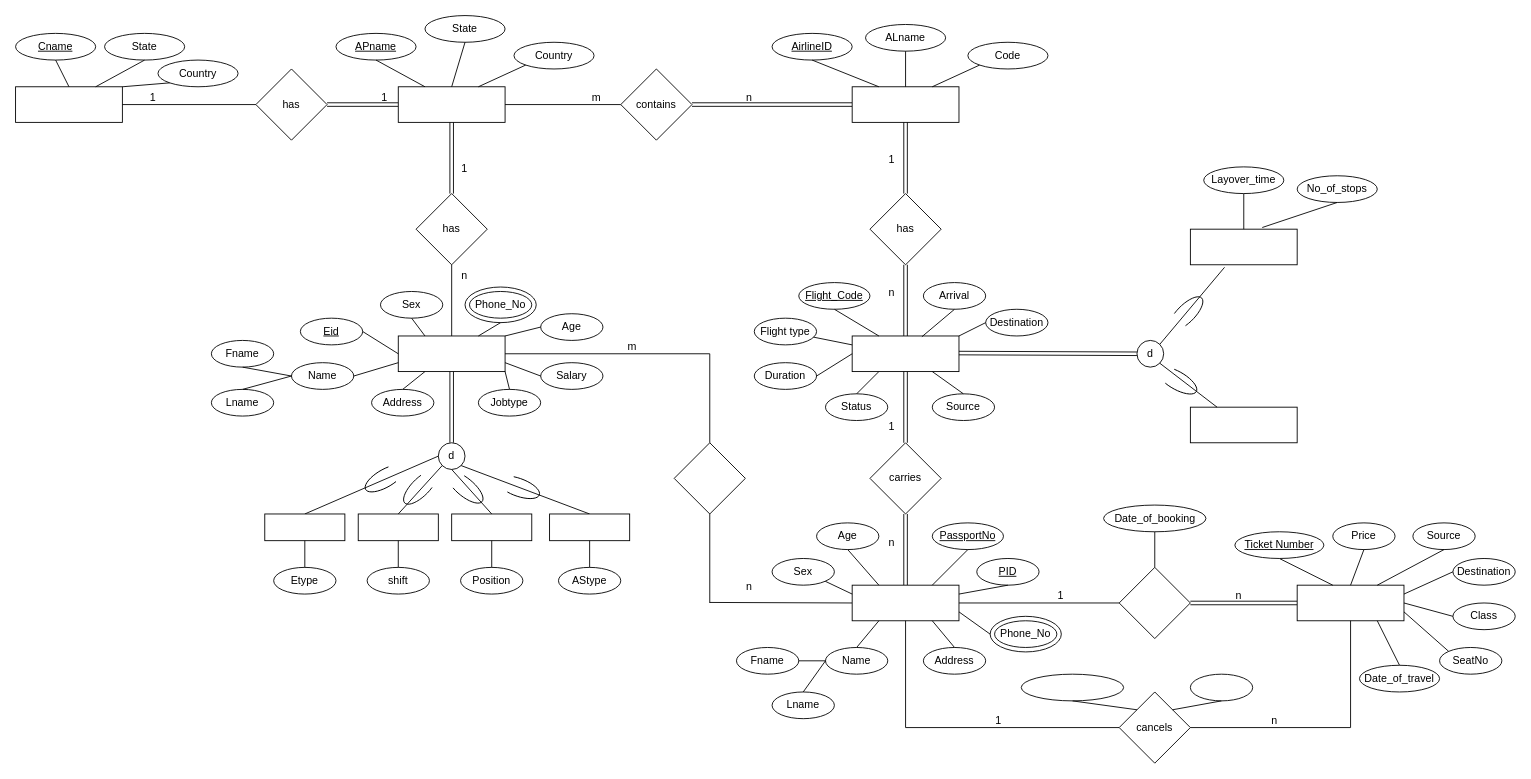
Some shapes in this 1531 by 779 pixel diagram are drawn without their labels. Here are the shapes that lost their labels. From the top down, the centre of each, then its label:
At point (68, 104): "CITY".
At point (451, 104): "AIRPORT".
At point (905, 104): "AIRLINE".
At point (1243, 246): "CONNECTING".
At point (451, 353): "EMPLOYEE".
At point (905, 353): "FLIGHT".
At point (1243, 424): "NONSTOP".
At point (709, 478): "serves".
At point (304, 527): "Engineer".
At point (397, 527): "Trafic Monitor".
At point (491, 527): "Airport Authority".
At point (589, 527): "Administrative Support".
At point (905, 602): "PASSENGER".
At point (1154, 602): "books".
At point (1350, 602): "TICKET".
At point (1072, 687): "date of cancellation".
At point (1221, 687): "surcharge".
